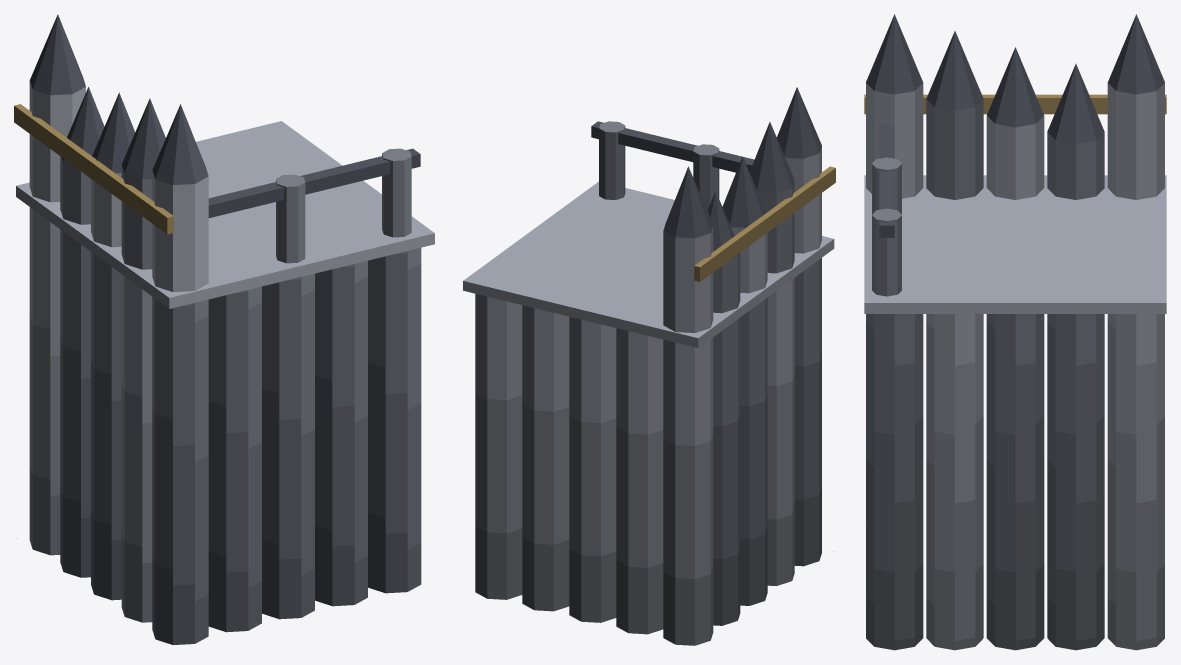
The model's file is perimeter_wall_metal_f3.glb.
3 views of the same model, side by side, from view 1: azimuth 30°, elevation 25°; view 2: azimuth 150°, elevation 25°; view 3: azimuth 270°, elevation 25° (orthographic). The views are drawn at different scales.
Size of the model in its own units: 2.01 by 3.9 by 2.
1 material, 1 textured.
